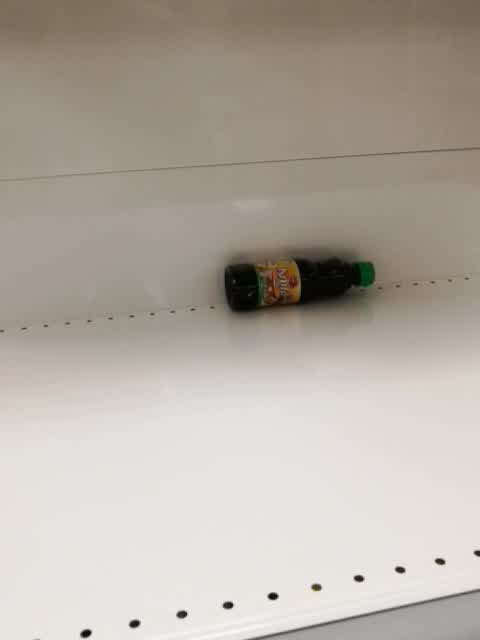cookingoil: (222, 256, 378, 313)
